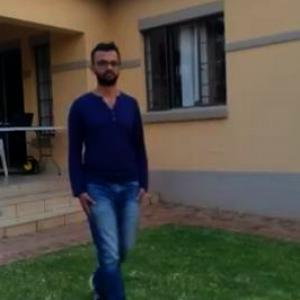follow: (74, 56, 150, 292)
